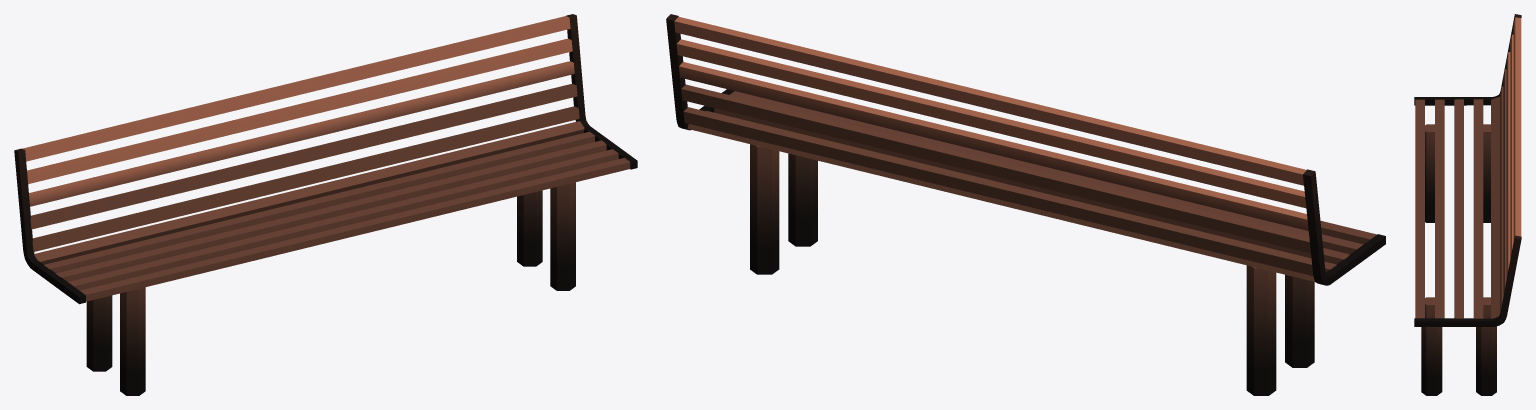
Rendered from Bench.fbx.
3 views of the same model, side by side, from view 1: azimuth 30°, elevation 25°; view 2: azimuth 150°, elevation 25°; view 3: azimuth 270°, elevation 25° (orthographic). The views are drawn at different scales.
Parts seen in each view (by area): view 1: LowPolyHumanBase.002; view 2: LowPolyHumanBase.002; view 3: LowPolyHumanBase.002.
Part boxes in pixels (<box>): LowPolyHumanBase.002: <box>14,14,637,395</box>; LowPolyHumanBase.002: <box>666,14,1385,395</box>; LowPolyHumanBase.002: <box>1414,14,1521,395</box>.
Bounding box in the file's own units: 554 × 207 × 112.
